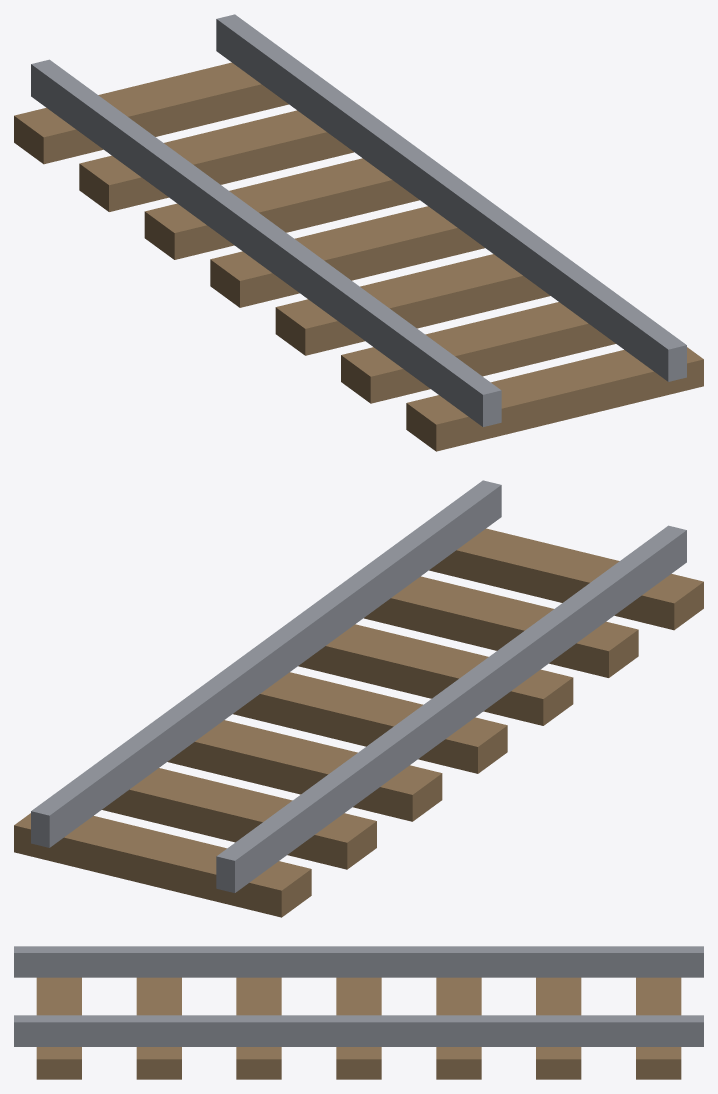
The model's file is mine_rail.glb.
3 renders of one model, top to bottom at view 1: azimuth 30°, elevation 25°; view 2: azimuth 150°, elevation 25°; view 3: azimuth 270°, elevation 25°, orthographic. The views are drawn at different scales.
Visible parts, largest first — view 1: Rail_0.9, Rail_-0.9, Tie_0, Tie_4, Tie_2, Tie_5, Tie_3, Tie_1, Tie_6; view 2: Rail_0.9, Rail_-0.9, Tie_6, Tie_2, Tie_4, Tie_1, Tie_3, Tie_5, Tie_0; view 3: Rail_0.9, Rail_-0.9, Tie_2, Tie_3, Tie_4, Tie_0, Tie_1, Tie_5, Tie_6.
Boxes of the visible parts, bbox=[...] form: Rail_0.9: bbox=[216, 14, 686, 381]; Rail_-0.9: bbox=[31, 59, 501, 426]; Tie_0: bbox=[406, 347, 703, 451]; Tie_4: bbox=[144, 158, 419, 259]; Tie_2: bbox=[275, 254, 550, 355]; Tie_5: bbox=[79, 110, 353, 211]; Tie_3: bbox=[210, 206, 484, 307]; Tie_1: bbox=[341, 302, 615, 403]; Tie_6: bbox=[14, 62, 288, 164]; Rail_0.9: bbox=[31, 480, 501, 847]; Rail_-0.9: bbox=[216, 525, 686, 892]; Tie_6: bbox=[14, 813, 311, 917]; Tie_2: bbox=[298, 624, 573, 725]; Tie_4: bbox=[167, 720, 442, 821]; Tie_1: bbox=[364, 576, 638, 677]; Tie_3: bbox=[233, 672, 507, 773]; Tie_5: bbox=[102, 768, 376, 869]; Tie_0: bbox=[429, 528, 703, 630]; Rail_0.9: bbox=[14, 1015, 703, 1046]; Rail_-0.9: bbox=[14, 946, 703, 977]; Tie_2: bbox=[236, 977, 281, 1079]; Tie_3: bbox=[336, 977, 381, 1079]; Tie_4: bbox=[436, 977, 481, 1079]; Tie_0: bbox=[36, 977, 81, 1079]; Tie_1: bbox=[136, 977, 181, 1079]; Tie_5: bbox=[536, 977, 581, 1079]; Tie_6: bbox=[636, 977, 681, 1079].
Bounding box in the file's own units: 2.6 × 0.555 × 7.6.
